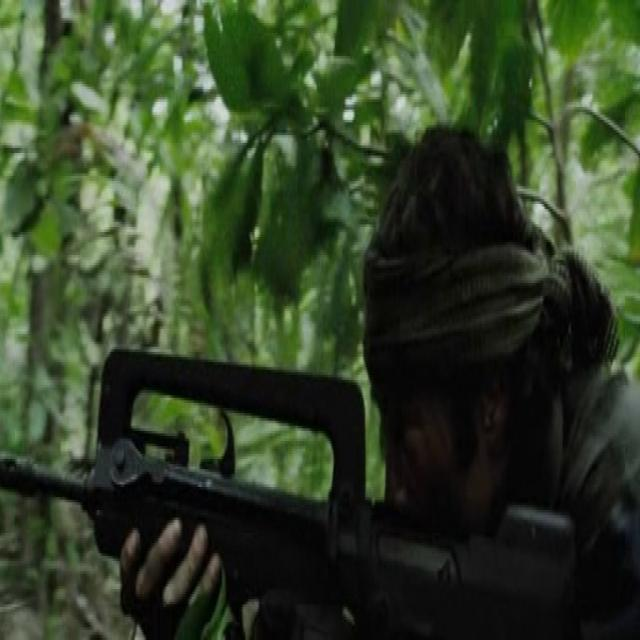rifle: (1, 336, 606, 640)
